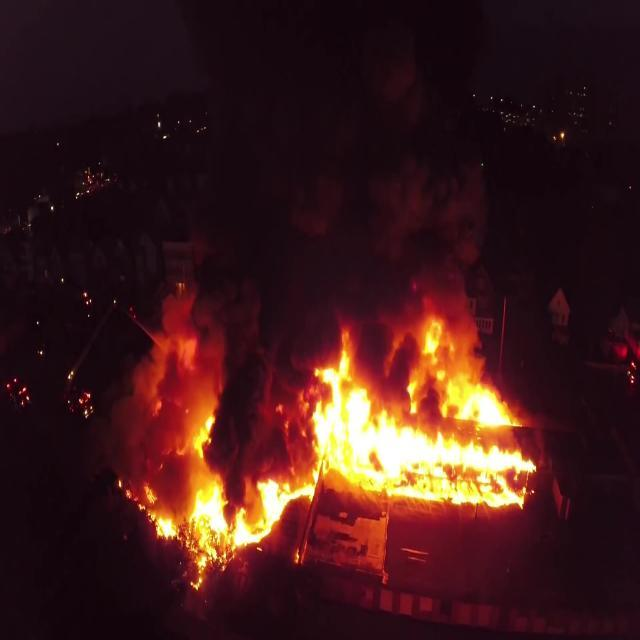Fire: (294, 273, 548, 507), (113, 406, 292, 588)
Smoke: (175, 3, 496, 282)
